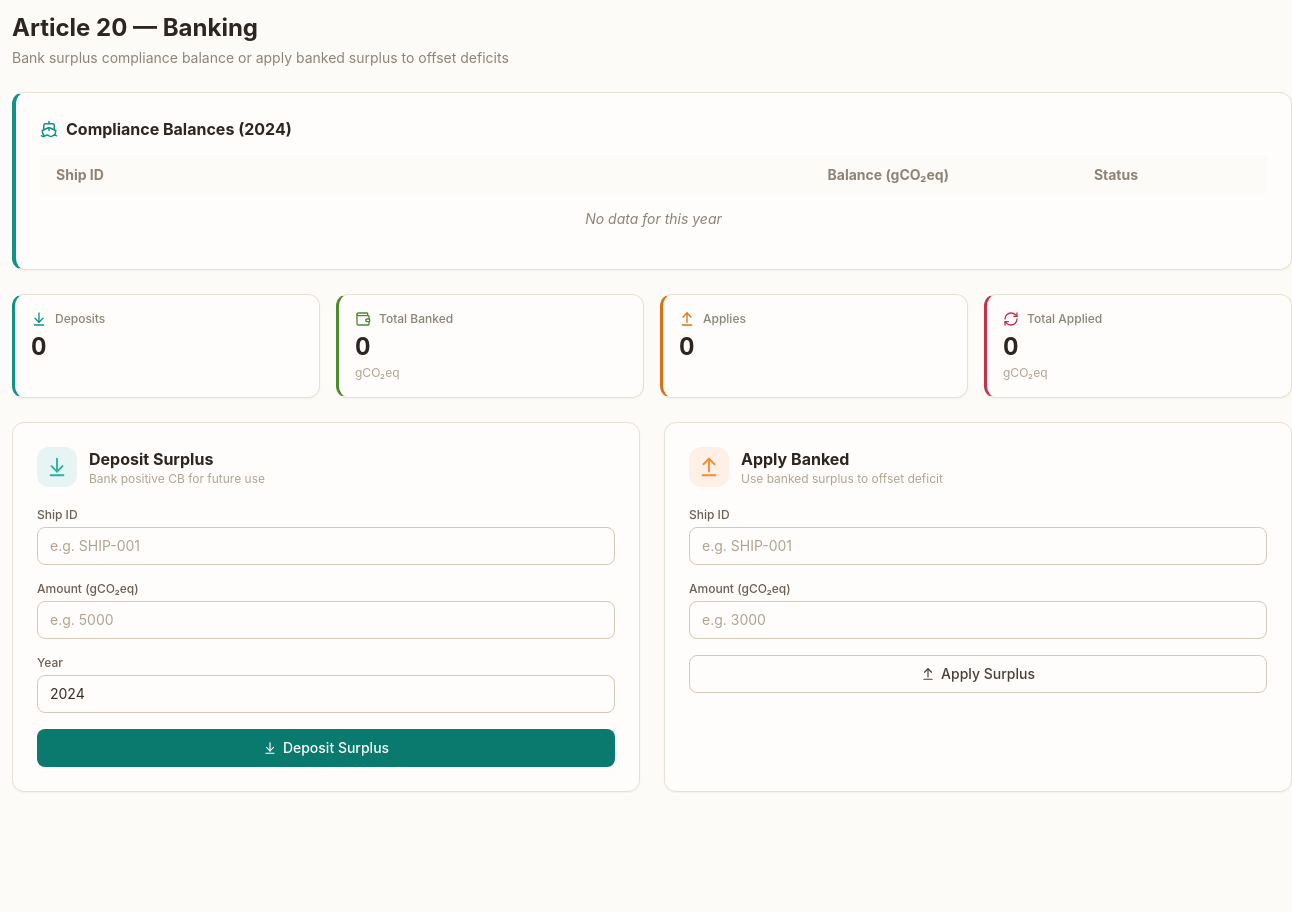
Test: BankingTab › handles deposit error
The width and height of the screenshot is (1292, 912).
Type "BAD" into the field with placeholder "e.g. SHIP-001" below "Bank positive CB for future use" at (326, 546), box [37,527,615,565]
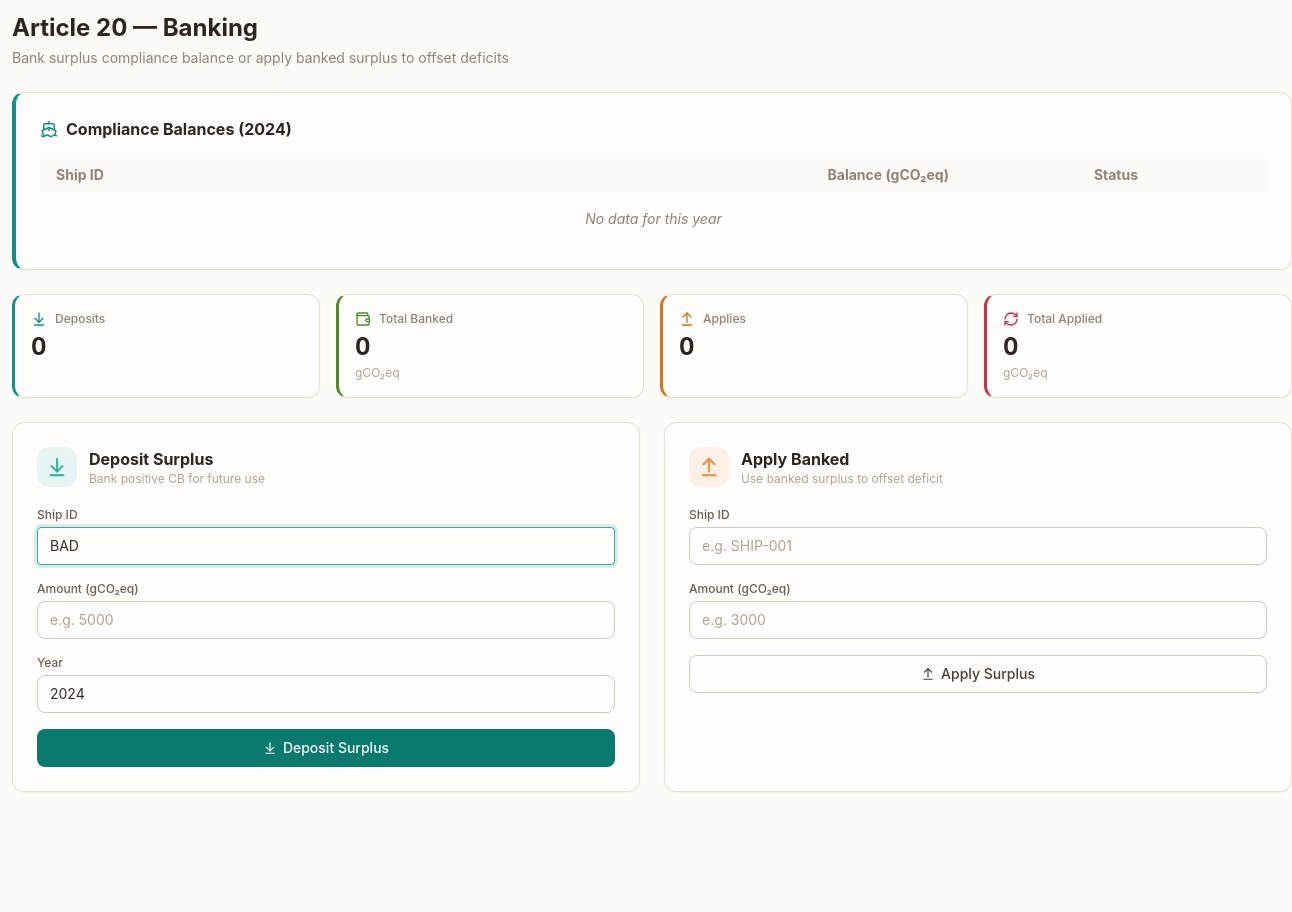
Type "100" into the number field with placeholder "e.g. 5000" below "Bank positive CB for future use" at (326, 620), box [37,601,615,639]
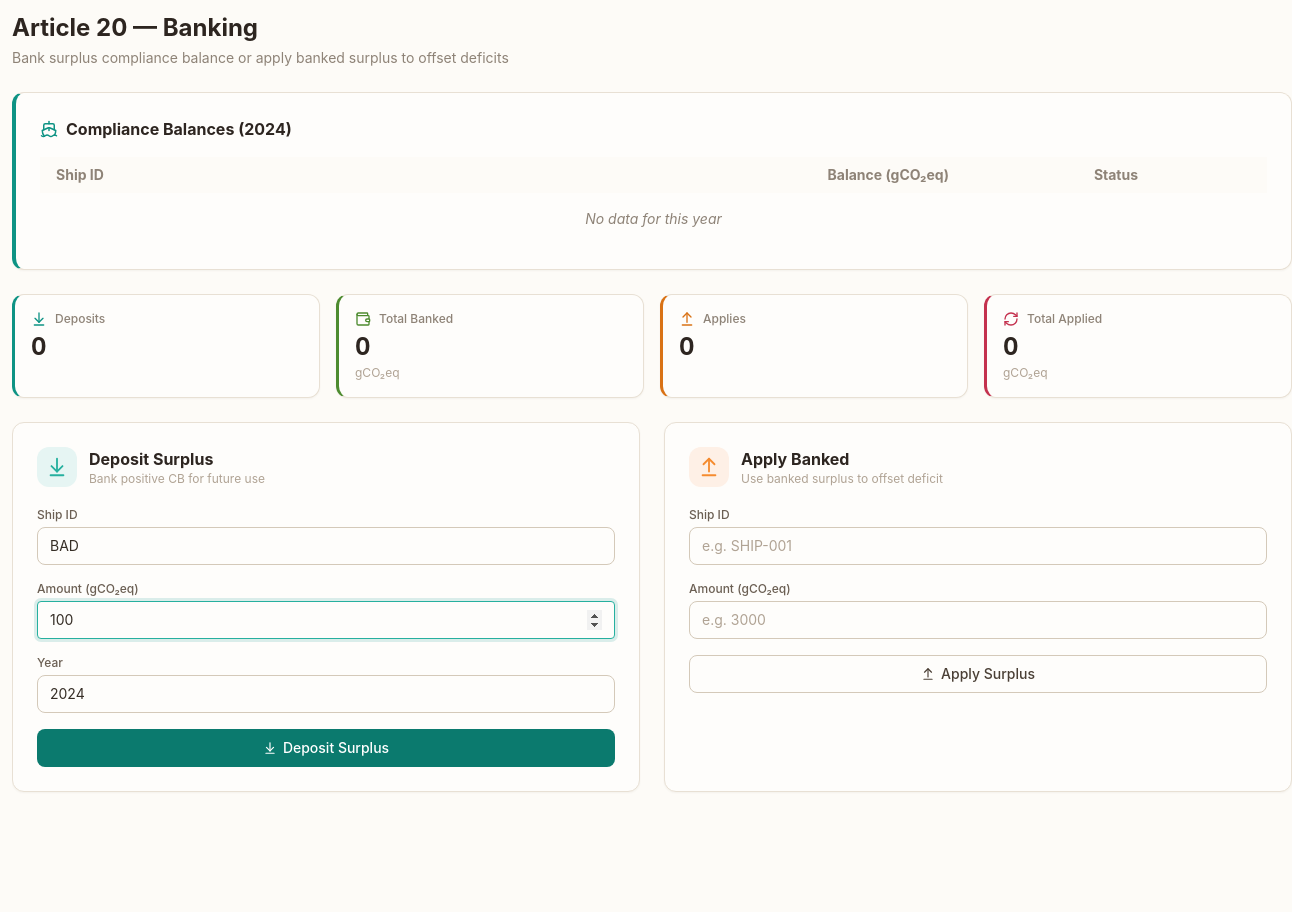
Click the button "Deposit Surplus" at (326, 748), box [37,729,615,767]
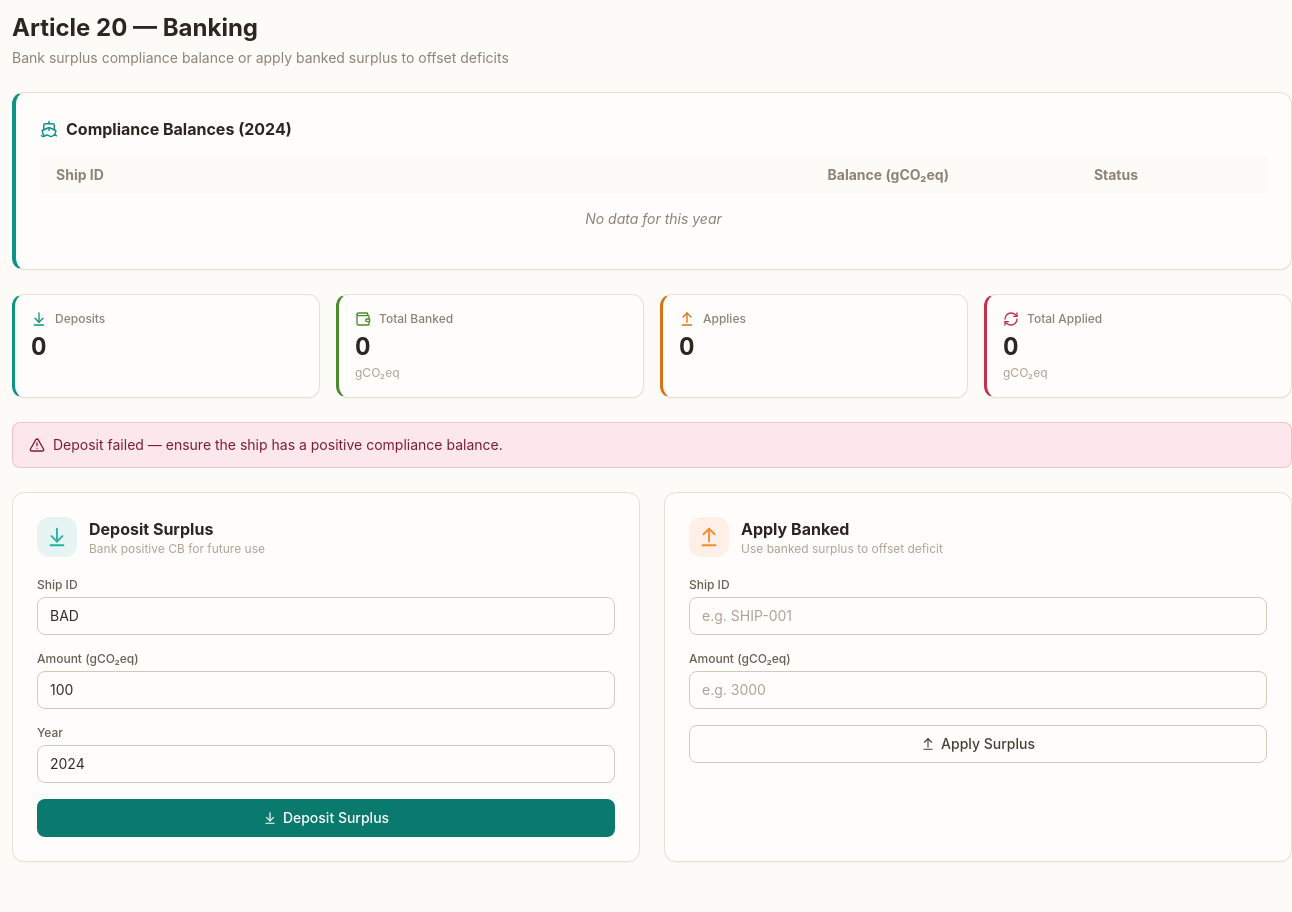
expect the text "Deposit failed" is shown: met, box [53,436,503,453]
